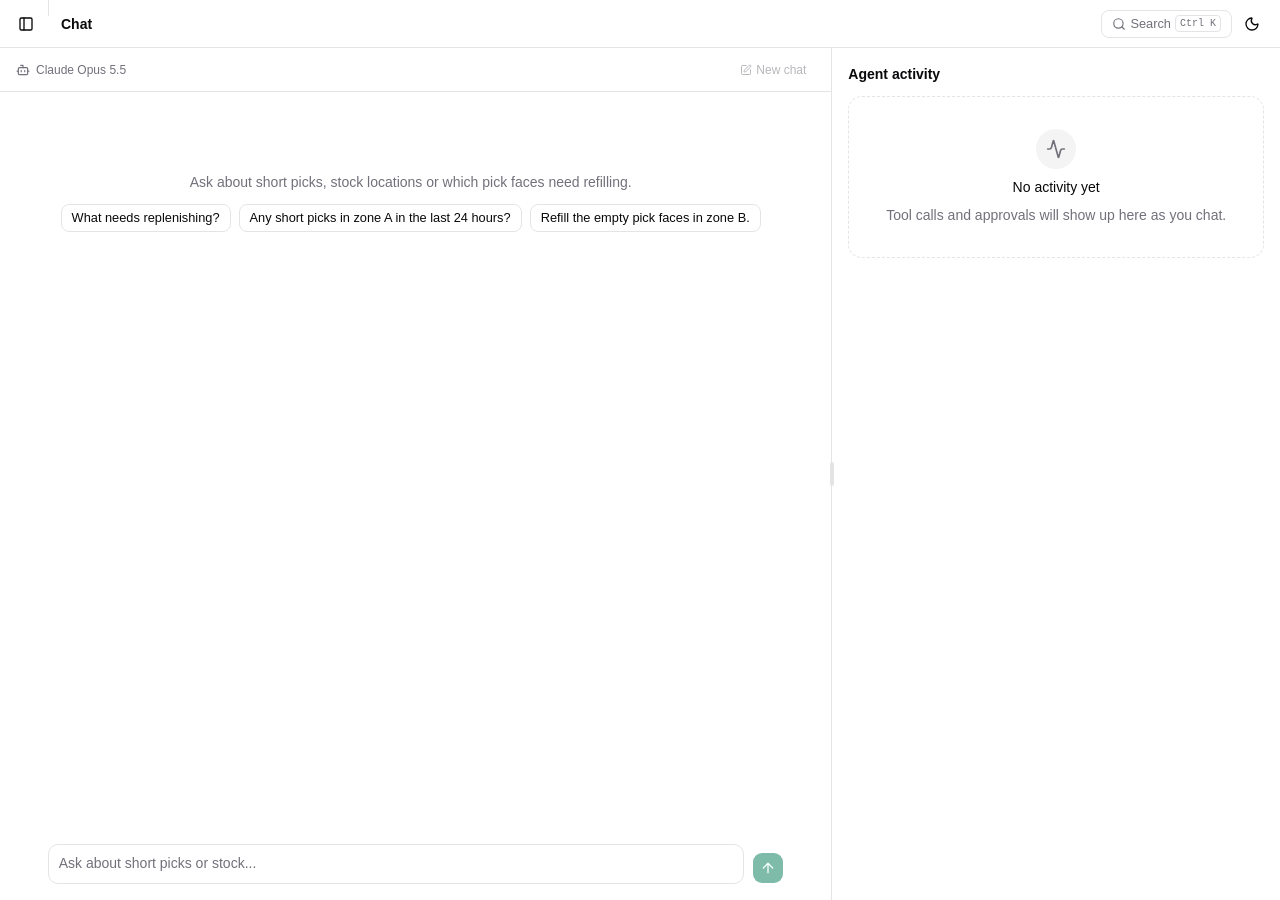
App workspace › logs the agent turn and offers to show the bay being replenished on the floor map
The image size is (1280, 900).
In the text box named "Message": (396, 864) [48,844,744,884], type "Refill it"
Then press Enter
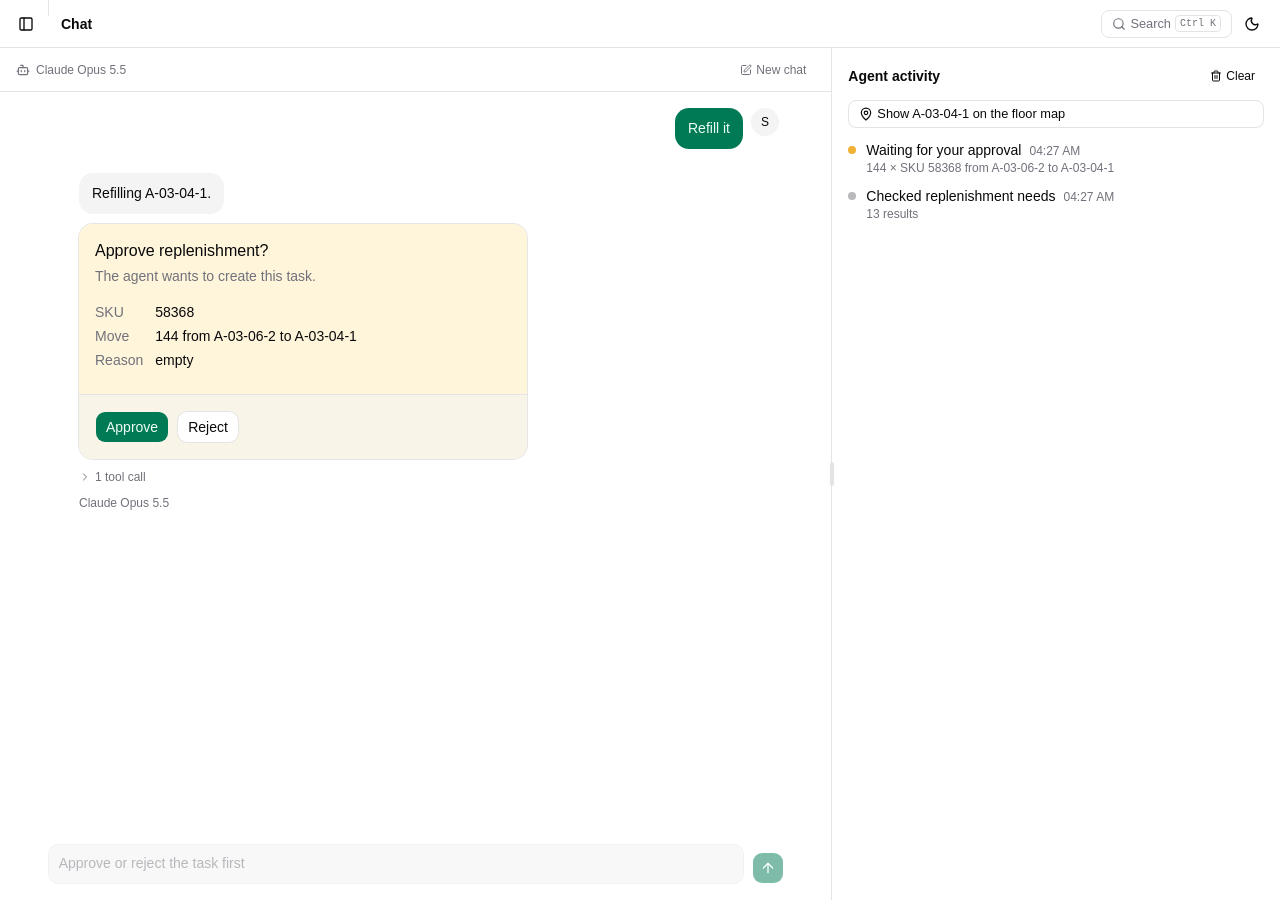
Check: the text "Waiting for your approval" is shown, box [866,142,1021,158]
Check: the text "Checked replenishment needs" is shown, box [866,188,1055,204]
The destination bay is selected and highlighted on the floor map page.
Click the button "Show A-03-04-1 on the floor map": (1056, 114) [848,100,1264,128]
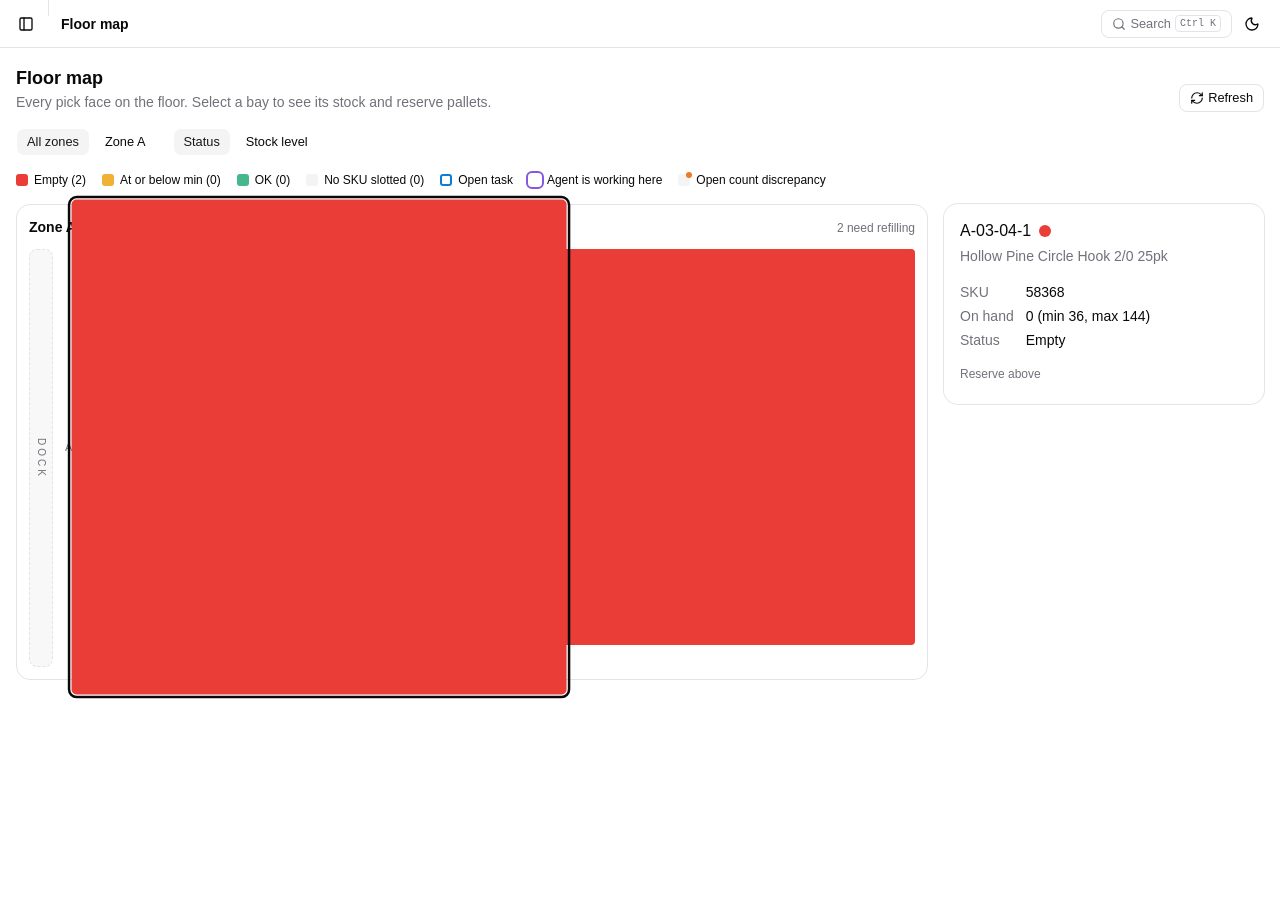
Check: the 1st heading "Floor map" is shown, box [61,14,129,34]
Check: the button named "A-03-04-1" is shown, box [72,200,566,694]
